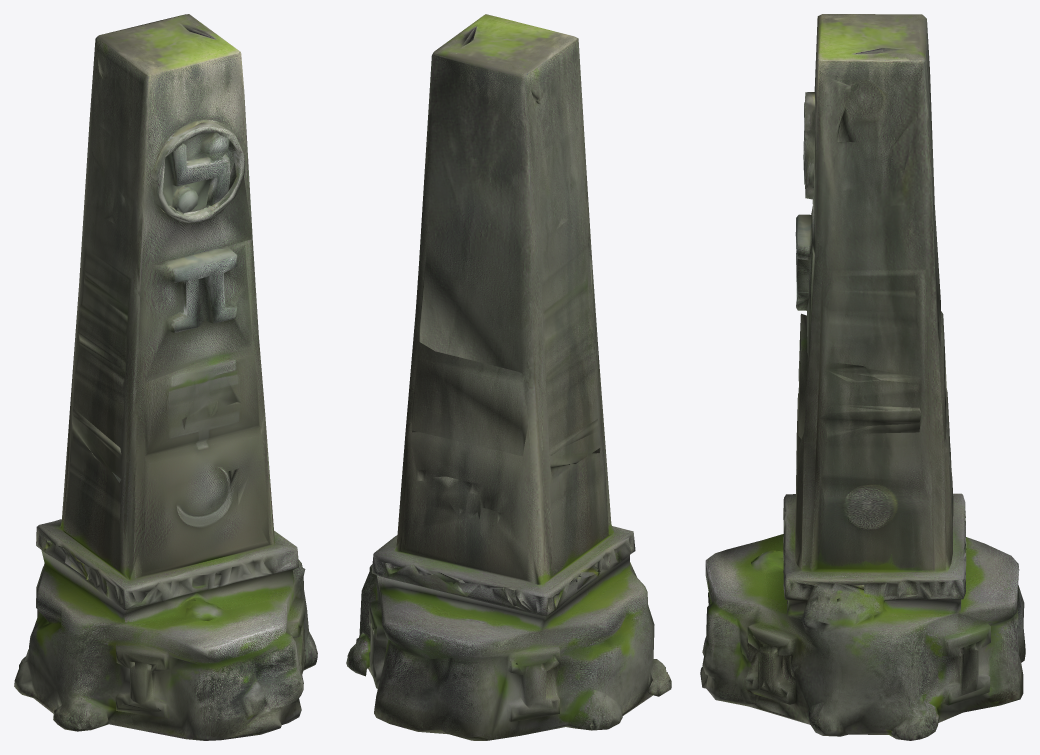
The model's file is prop-obelisk.glb.
3 renders of one model, left to right at view 1: azimuth 30°, elevation 25°; view 2: azimuth 150°, elevation 25°; view 3: azimuth 270°, elevation 25°, orthographic.
Size of the model in its own units: 0.8629 by 1.91 by 0.8783.
Materials: 1 (1 with a texture image).
